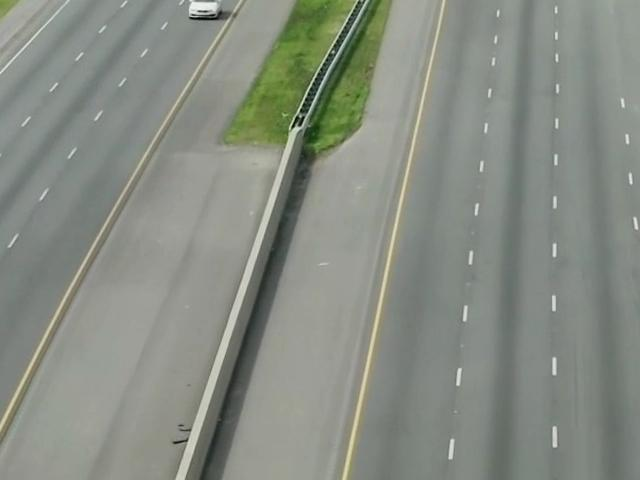car: (180, 0, 228, 26)
